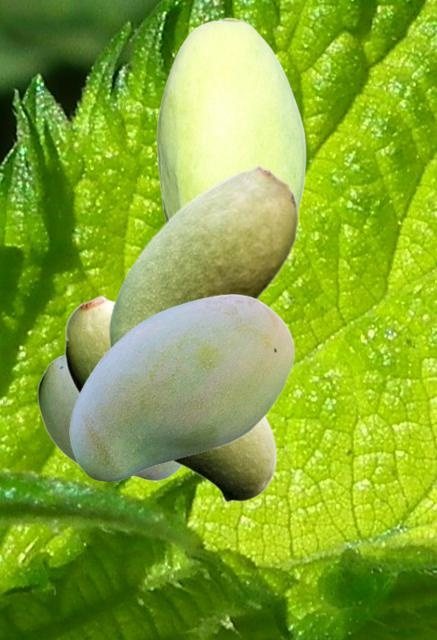green_mango: (64, 294, 276, 502), (69, 294, 294, 480), (108, 164, 298, 348), (156, 17, 305, 222), (37, 354, 181, 480)
